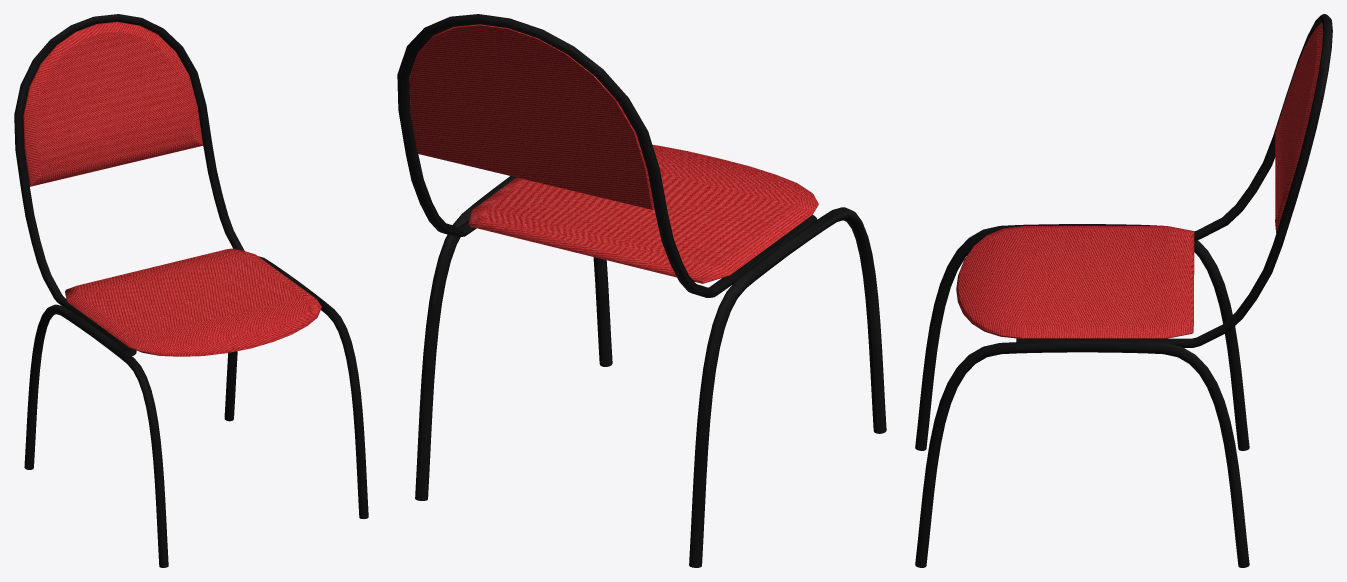
Rendered from Chair2.fbx.
3 renders of one model, left to right at view 1: azimuth 30°, elevation 25°; view 2: azimuth 150°, elevation 25°; view 3: azimuth 270°, elevation 25°, orthographic. The views are drawn at different scales.
Parts seen in each view (by area): view 1: BezierCurve.003; view 2: BezierCurve.003; view 3: BezierCurve.003.
Part boxes in pixels (x1,y1,x2,y2): BezierCurve.003: (14,14,368,567); BezierCurve.003: (397,14,886,567); BezierCurve.003: (915,14,1332,567).
Size of the model in its own units: 50.49 by 92.87 by 73.16.
